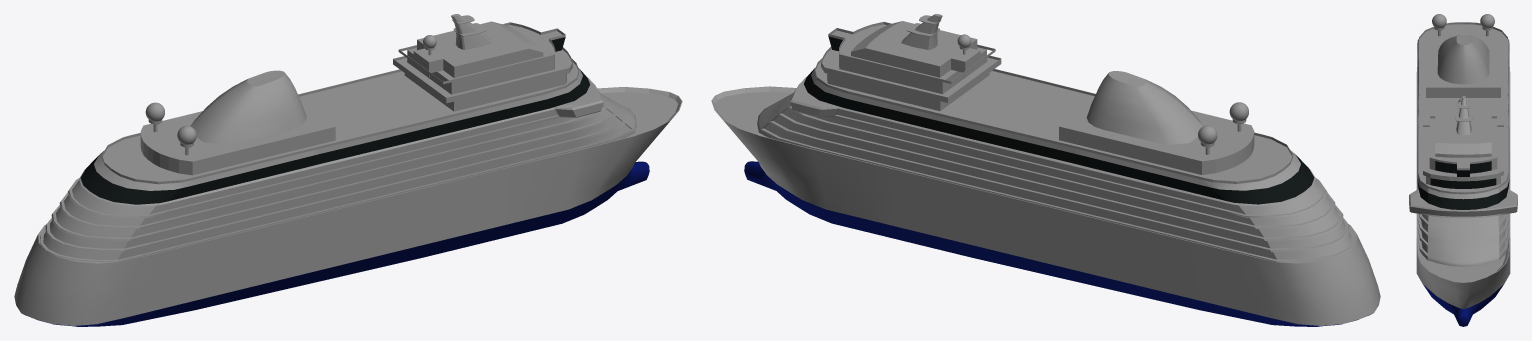
File: 深淵呼喚_建築_B03基隆_內港七海探險號.FBX
The picture shows the model from 3 angles, left to right: view 1: azimuth 30°, elevation 25°; view 2: azimuth 150°, elevation 25°; view 3: azimuth 270°, elevation 25°; orthographic projection. The views are drawn at different scales.
Parts seen in each view (by area): view 1: Plane002, Plane004, Plane006, Shape, Object006, Rectangle008, Box001, Rectangle007, Rectangle006, Shape010, Shape006, Box003; view 2: Plane002, Plane004, Plane006, Shape, Object006, Rectangle008, Box001, Rectangle007, Rectangle006, Shape010, Shape006, Box003; view 3: Plane004, Plane006, Plane002, Rectangle008, Box001, Rectangle007, Shape006, Shape010, Object007, Object006, Rectangle006, Shape (+4 smaller).
Boxes of the visible parts, bbox=[...] form: Plane002: bbox=[14, 87, 682, 325]; Plane004: bbox=[39, 76, 636, 262]; Plane006: bbox=[94, 62, 582, 190]; Shape: bbox=[23, 161, 649, 326]; Object006: bbox=[80, 69, 590, 204]; Rectangle008: bbox=[140, 102, 335, 175]; Box001: bbox=[190, 70, 306, 144]; Rectangle007: bbox=[413, 21, 543, 78]; Rectangle006: bbox=[404, 25, 566, 111]; Shape010: bbox=[102, 22, 579, 184]; Shape006: bbox=[393, 49, 572, 103]; Box003: bbox=[451, 14, 492, 49]; Plane002: bbox=[711, 86, 1380, 325]; Plane004: bbox=[757, 76, 1355, 261]; Plane006: bbox=[811, 62, 1300, 190]; Shape: bbox=[744, 161, 1371, 326]; Object006: bbox=[804, 69, 1314, 204]; Rectangle008: bbox=[1059, 102, 1254, 174]; Box001: bbox=[1086, 71, 1203, 144]; Rectangle007: bbox=[851, 21, 980, 77]; Rectangle006: bbox=[827, 24, 989, 110]; Shape010: bbox=[815, 21, 1292, 183]; Shape006: bbox=[821, 49, 1001, 102]; Box003: bbox=[901, 14, 942, 49]; Plane004: bbox=[1409, 52, 1517, 266]; Plane006: bbox=[1417, 24, 1509, 199]; Plane002: bbox=[1416, 67, 1510, 309]; Rectangle008: bbox=[1426, 28, 1500, 97]; Box001: bbox=[1437, 35, 1489, 84]; Rectangle007: bbox=[1435, 109, 1491, 157]; Shape006: bbox=[1423, 127, 1503, 181]; Shape010: bbox=[1418, 22, 1508, 194]; Object007: bbox=[1430, 161, 1496, 188]; Object006: bbox=[1417, 179, 1509, 209]; Rectangle006: bbox=[1426, 121, 1500, 184]; Shape: bbox=[1423, 284, 1503, 326].
Size of the model in its own units: 25102 by 7957 by 4730.
